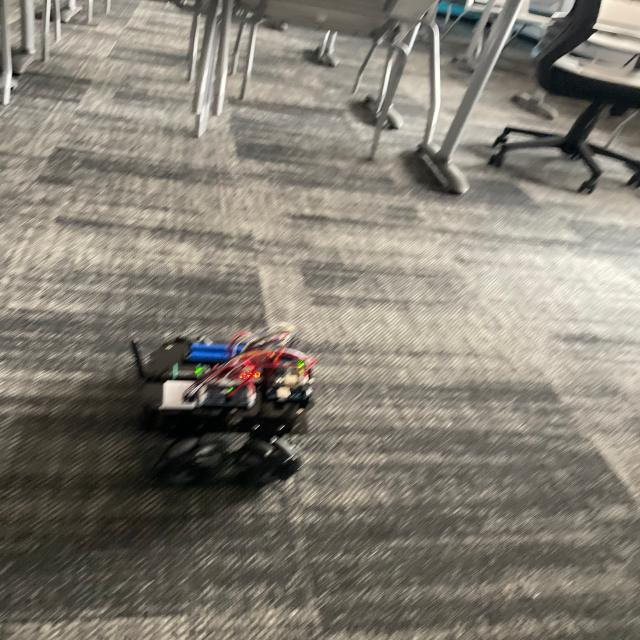ArduinoCar3: (108, 324, 327, 500)
